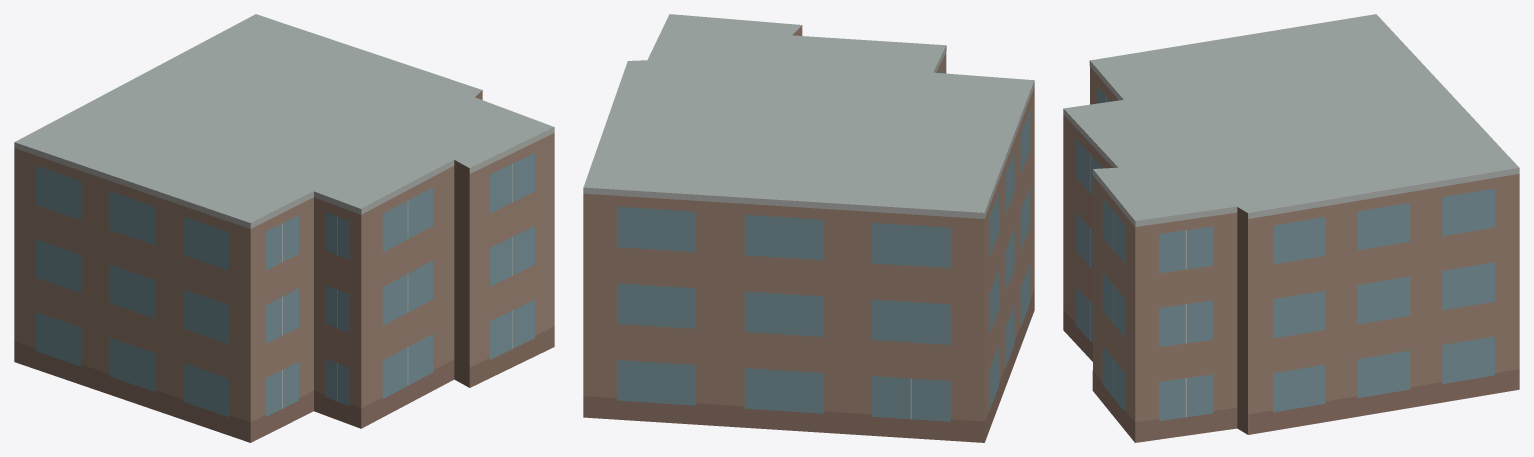
File: survey-upis-32582935.glb
3 views of the same model, side by side, from view 1: azimuth 30°, elevation 25°; view 2: azimuth 150°, elevation 25°; view 3: azimuth 270°, elevation 25° (orthographic). The views are drawn at different scales.
Parts seen in each view (by area): view 1: survey-upis-32582935.tmp; view 2: survey-upis-32582935.tmp; view 3: survey-upis-32582935.tmp.
Boxes of the visible parts, <box> form: survey-upis-32582935.tmp: <box>14,14,554,442</box>; survey-upis-32582935.tmp: <box>583,14,1034,442</box>; survey-upis-32582935.tmp: <box>1063,14,1519,442</box>.
Bounding box in the file's own units: 18.34 × 9.15 × 17.07.
